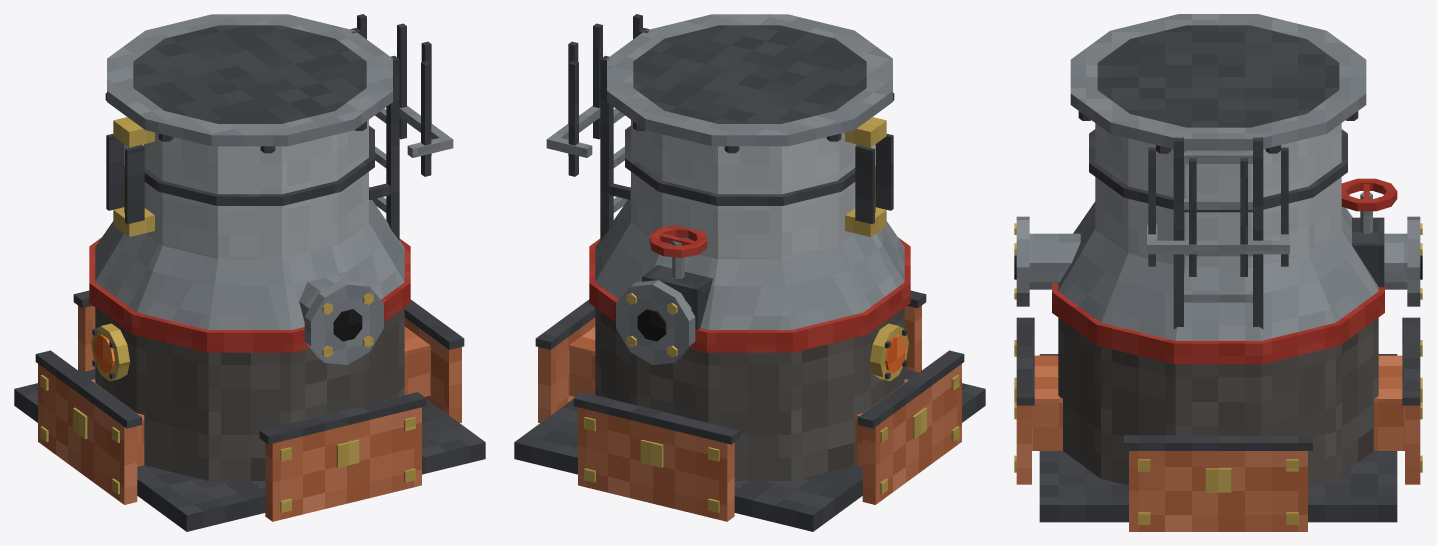
Rendered from columnbase.obj.
3 views of the same model, side by side, from view 1: azimuth 30°, elevation 25°; view 2: azimuth 150°, elevation 25°; view 3: azimuth 270°, elevation 25° (orthographic). The views are drawn at different scales.
Parts seen in each view (by area): view 1: main; view 2: main; view 3: main.
Part boxes in pixels (box(x1,y1,x2,y2)): main: box(14, 14, 485, 531); main: box(514, 14, 985, 531); main: box(1014, 14, 1422, 531).
Size of the model in its own units: 1 by 1 by 1.
Materials: 1 (1 with a texture image).
